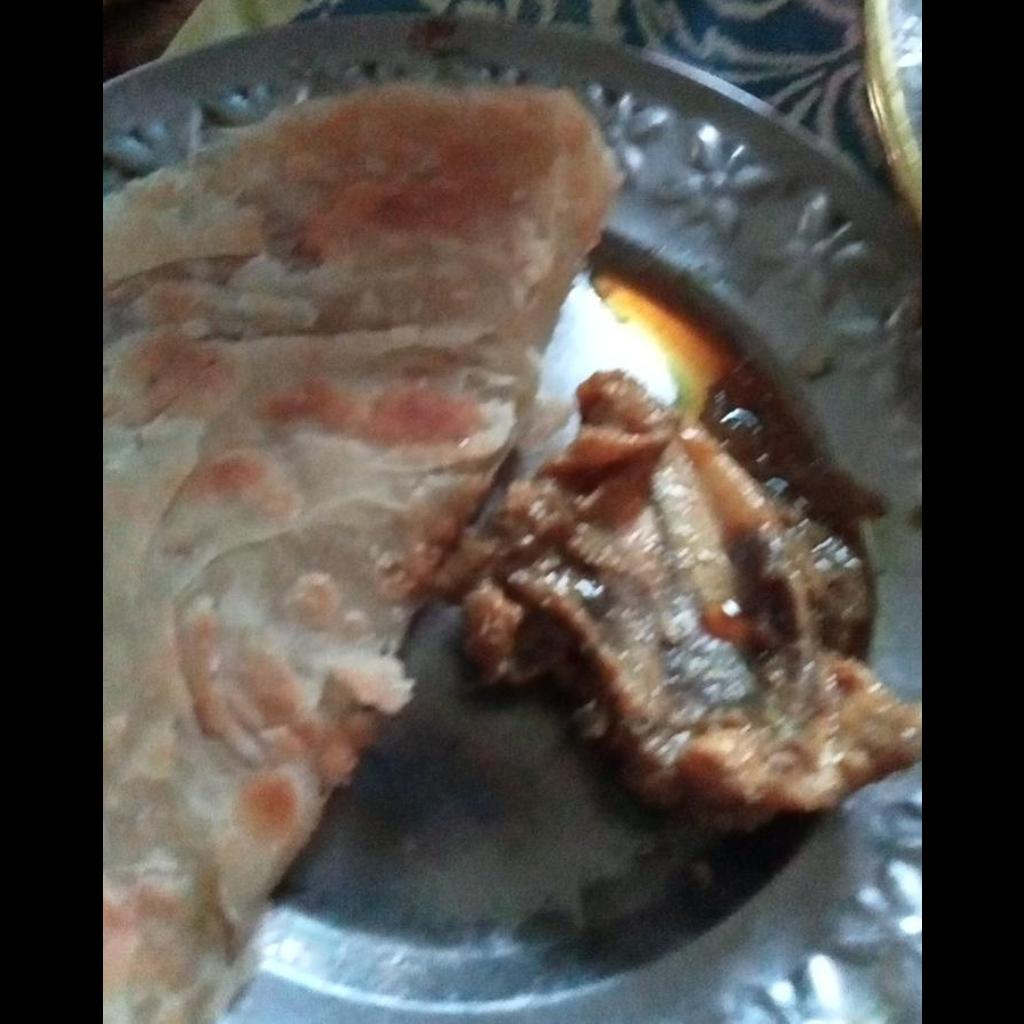chicken: (439, 366, 920, 817)
ruti: (103, 85, 626, 1019)
